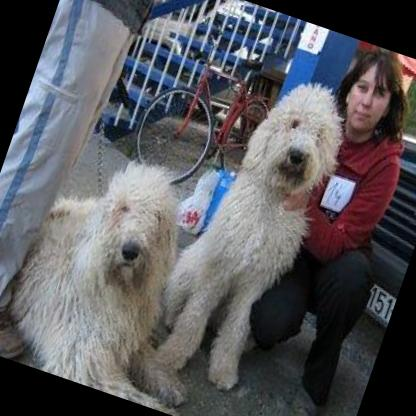komondor: (136, 55, 361, 404), (0, 127, 257, 415)
